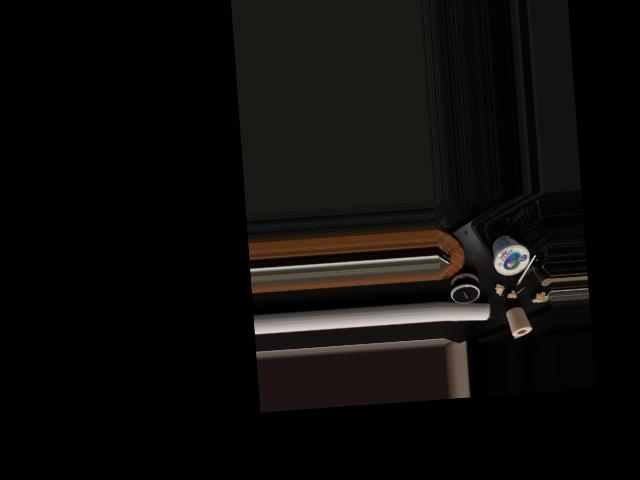cotage: (493, 231, 531, 274)
